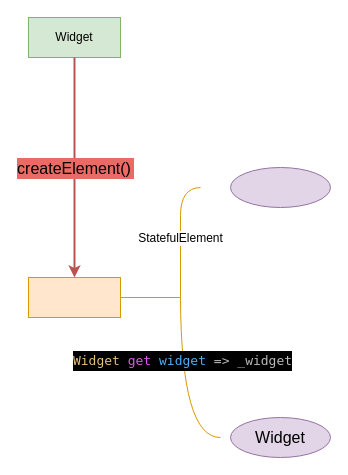
Some shapes in this 348 by 475 pixel diagram are drawn without their labels. Here are the shapes that lost their labels. From the top down, the centre of each, then its label:
At pixel 280 187: "State".
At pixel 74 297: "Element".
